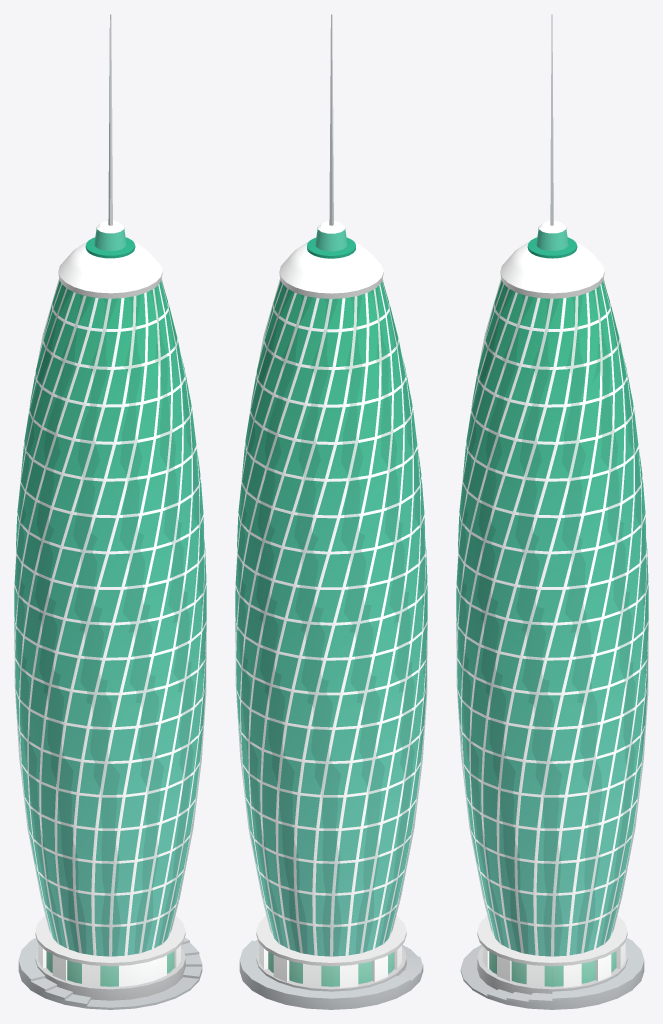
The model's file is Building_Skyscraper_10.glb.
3 views of the same model, side by side, from view 1: azimuth 30°, elevation 25°; view 2: azimuth 150°, elevation 25°; view 3: azimuth 270°, elevation 25° (orthographic).
Visible parts, largest first — view 1: Building_Skyscraper_10; view 2: Building_Skyscraper_10; view 3: Building_Skyscraper_10.
Boxes of the visible parts, x1,y1,x2,y2 form: Building_Skyscraper_10: (14, 14, 206, 1009); Building_Skyscraper_10: (235, 14, 427, 1009); Building_Skyscraper_10: (456, 14, 648, 1009).
Bounding box in the file's own units: 17.21 × 94.4 × 17.21.
Materials: 2 (2 with a texture image).
